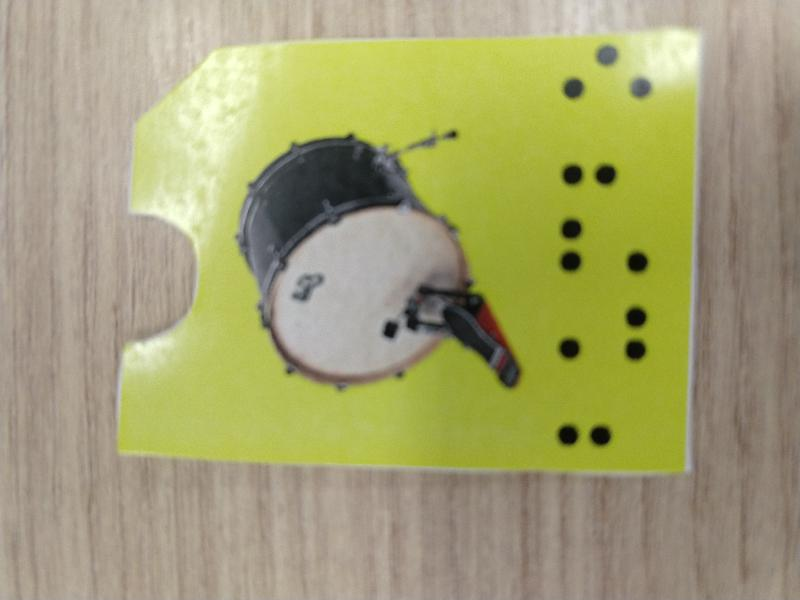bumbo: (115, 23, 701, 479)
